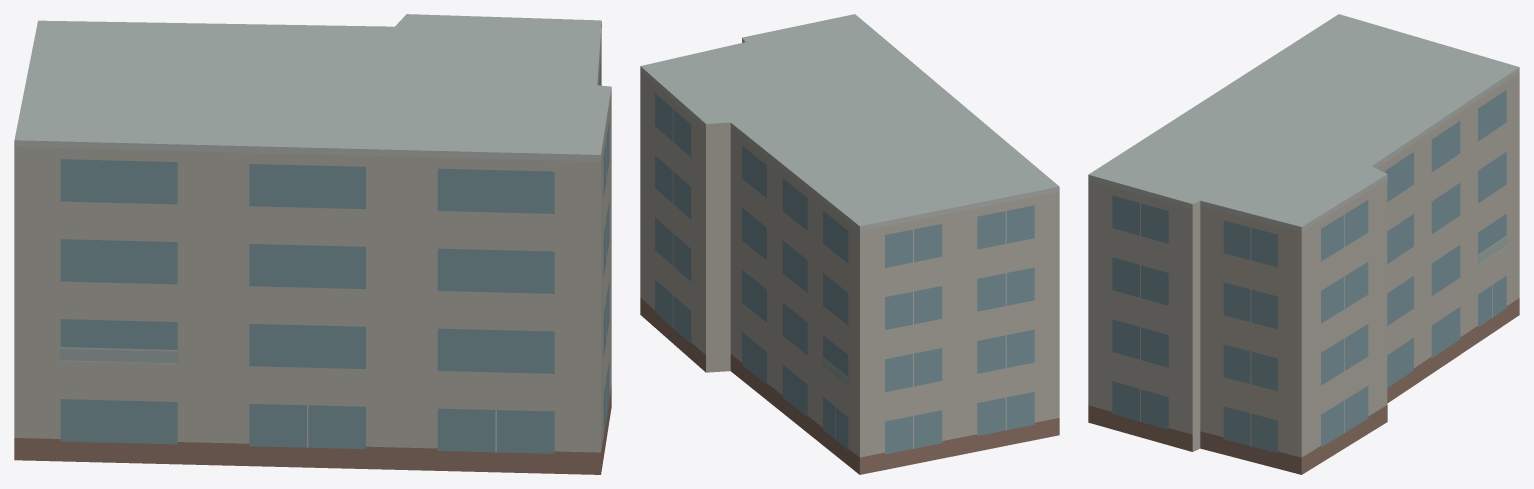
Rendered from survey-upis-32536680.glb.
The picture shows the model from 3 angles, left to right: view 1: azimuth 30°, elevation 25°; view 2: azimuth 150°, elevation 25°; view 3: azimuth 270°, elevation 25°; orthographic projection. The views are drawn at different scales.
Visible parts, largest first — view 1: survey-upis-32536680.tmp; view 2: survey-upis-32536680.tmp; view 3: survey-upis-32536680.tmp.
Boxes of the visible parts, left/top/right/bottom form: survey-upis-32536680.tmp: left=14, top=14, right=611, bottom=474; survey-upis-32536680.tmp: left=640, top=14, right=1059, bottom=474; survey-upis-32536680.tmp: left=1088, top=14, right=1519, bottom=474.
Size of the model in its own units: 21.76 by 11.8 by 18.62.
